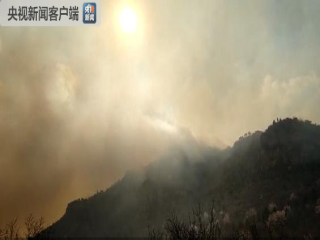smoke: (5, 35, 261, 209)
